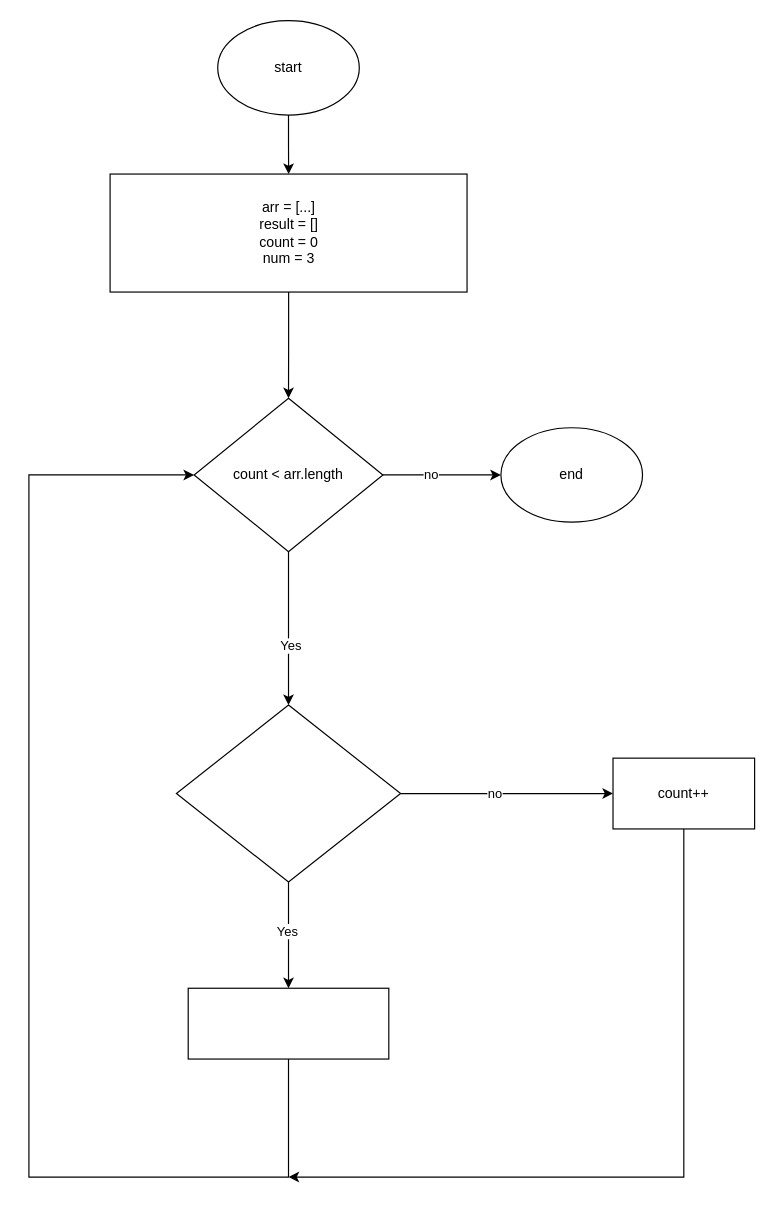
Image size: 775x1207. Some labels were removed from this diagram. Here are the shapes that lost their labels. From the top down, the centre of each, then its label:
At point 288,793: "arr[count].length <= num".
At point 288,1023: "Console.WriteLine(arr[count]) count++".
